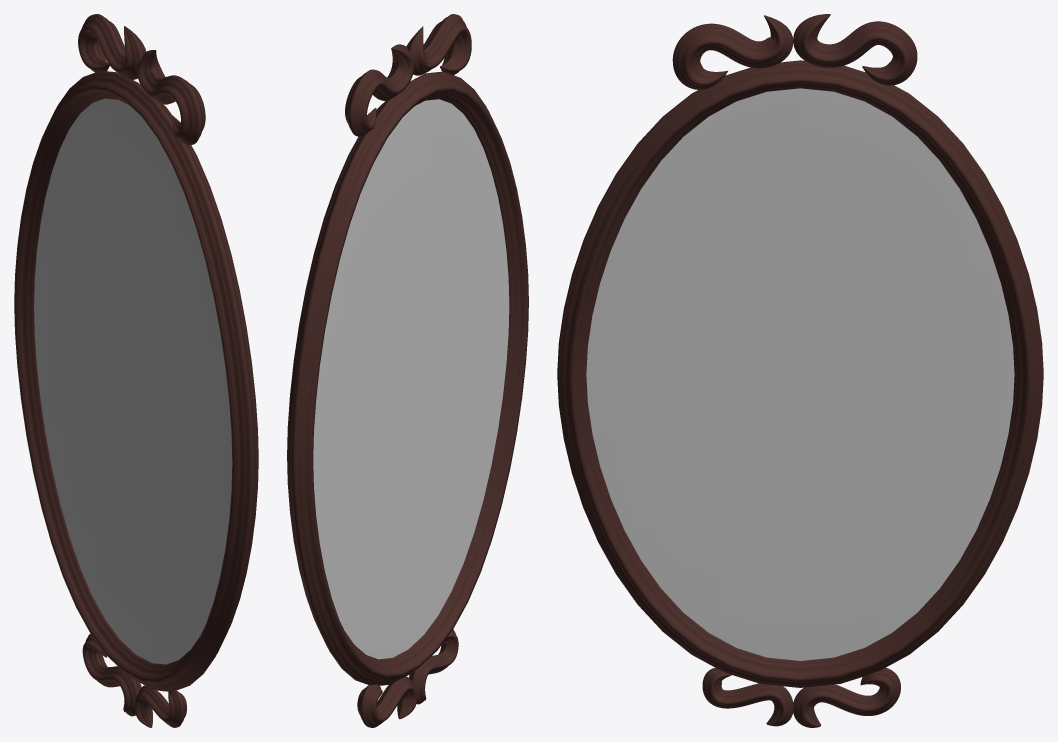
Rendered from V_Alice02_Espelho.fbx.
3 views of the same model, side by side, from view 1: azimuth 30°, elevation 25°; view 2: azimuth 150°, elevation 25°; view 3: azimuth 270°, elevation 25° (orthographic). The views are drawn at different scales.
Parts seen in each view (by area): view 1: Plane, BezierCircle; view 2: Plane, BezierCircle; view 3: Plane, BezierCircle.
Boxes of the visible parts, x1,y1,x2,y2 form: Plane: (34,98,232,664); BezierCircle: (14,14,258,727); Plane: (313,99,509,659); BezierCircle: (287,14,528,727); Plane: (586,88,1014,660); BezierCircle: (557,14,1043,727).
Size of the model in its own units: 27.44 by 668 by 412.
